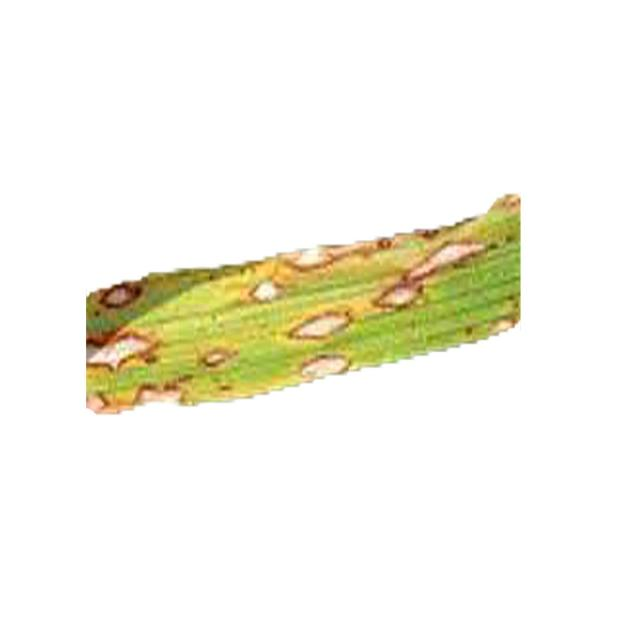Leaf blast: (64, 179, 576, 430)
